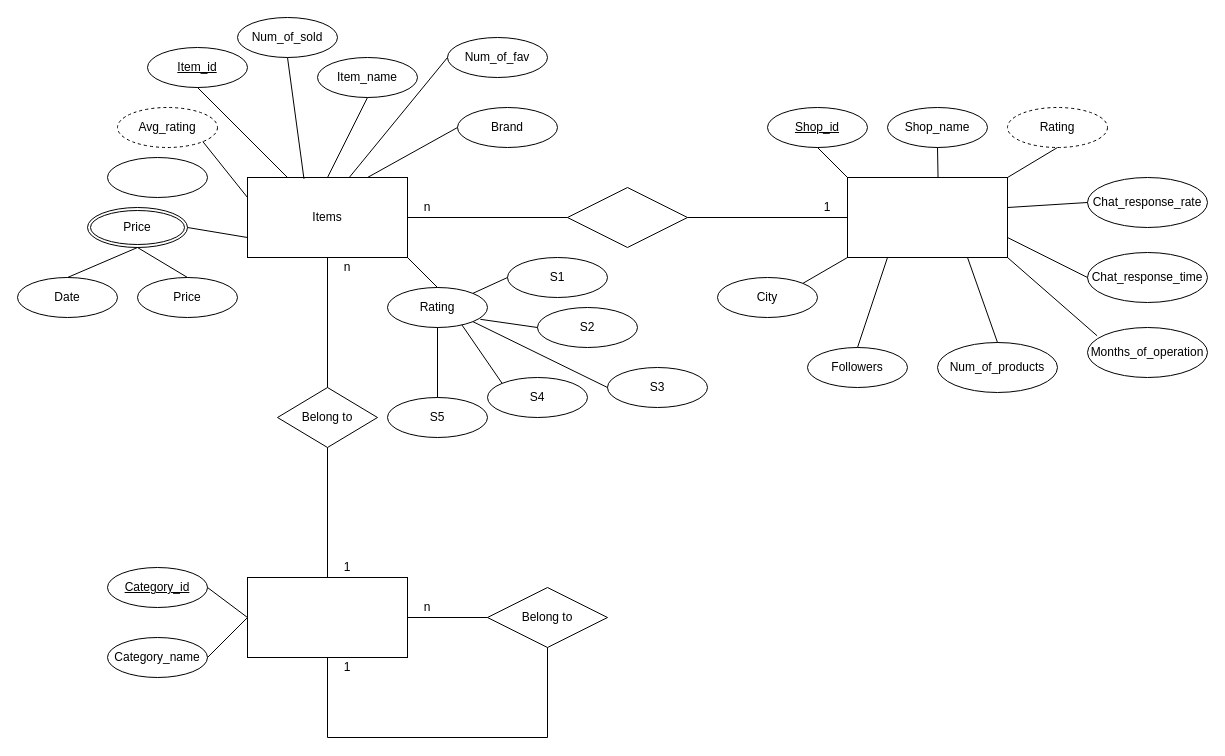
Image size: 1225x756. Some labels were removed from this diagram. Each missing label, with the centre of its shape:
"Attribute" belongs at (x=157, y=177).
"Categories" belongs at (x=327, y=617).
"Sell" belongs at (x=627, y=217).
"Shops" belongs at (x=927, y=217).
